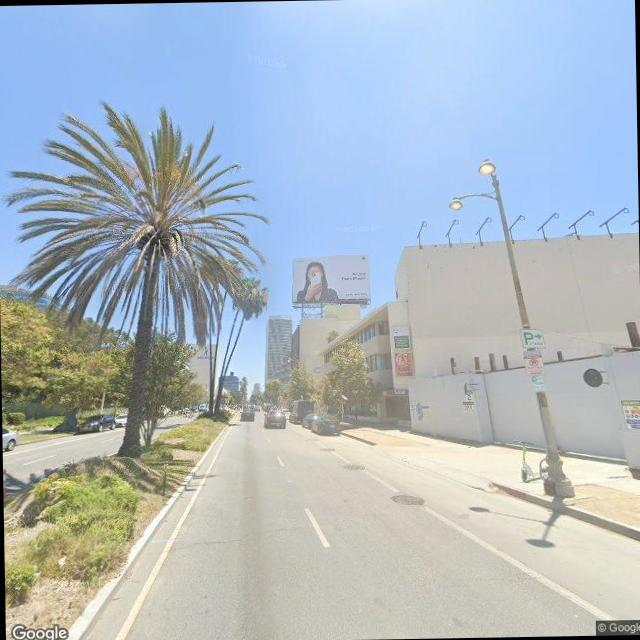crack: (150, 519, 302, 555)
